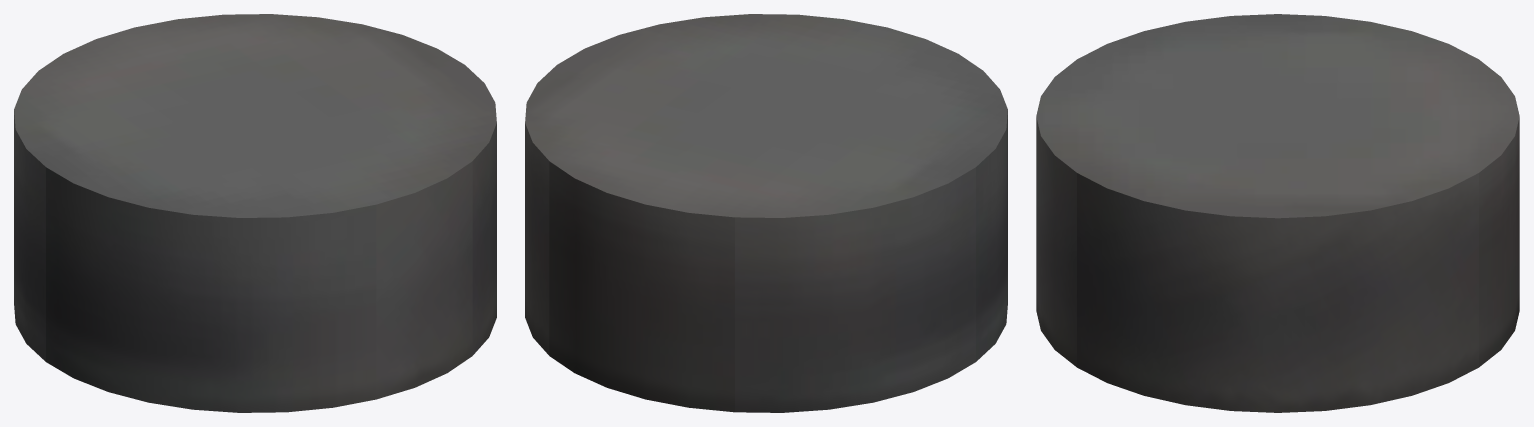
File: gauge__pivot.glb
The picture shows the model from 3 angles, left to right: view 1: azimuth 30°, elevation 25°; view 2: azimuth 150°, elevation 25°; view 3: azimuth 270°, elevation 25°; orthographic projection.
Parts seen in each view (by area): view 1: geometry_0; view 2: geometry_0; view 3: geometry_0.
Boxes of the visible parts, left/top/right/bottom form: geometry_0: left=14, top=14, right=496, bottom=412; geometry_0: left=525, top=14, right=1007, bottom=412; geometry_0: left=1036, top=14, right=1519, bottom=412.
Size of the model in its own units: 0.009 by 0.004 by 0.009.
1 material, 1 textured.
